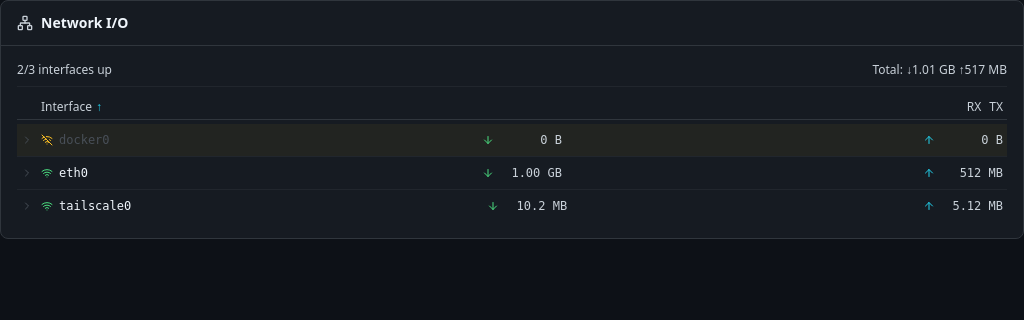
NetworkIOWidget › Expandable details (US0171 AC4) › expands interface to show details on click
// Click to expand
Click the button with test id "expand-eth0".
click(512, 173)  # box [17,157,1007,189]
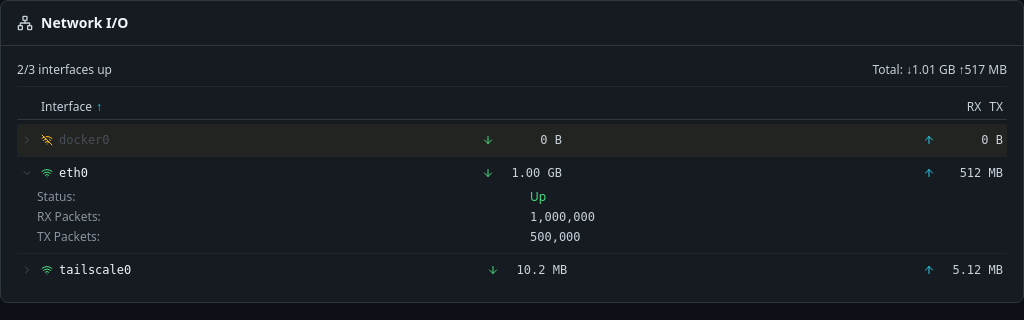
Result: the element with test id "details-eth0" is shown at [37,188,595,245]
Result: the element with test id "details-eth0" shows "Status:" at [37,188,75,205]
Result: the element with test id "details-eth0" shows "Up" at [530,188,546,205]
